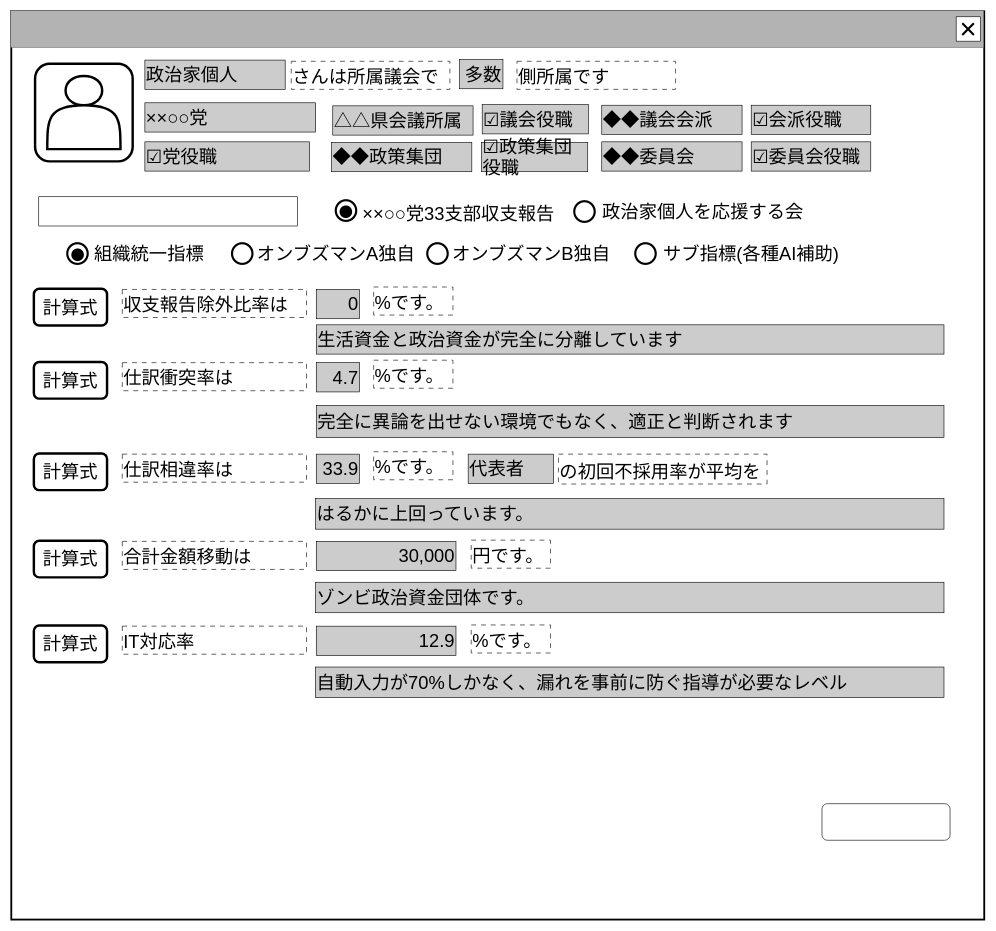
Image size: 996x931. Some labels were removed from this diagram. The shapes that lost their labels are listed below. From the top down, each one's centre as x and y in pixels, then its label:
At point (167, 211): "▼最新：2022報告(2021年分)".
At point (885, 821): "一覧".
